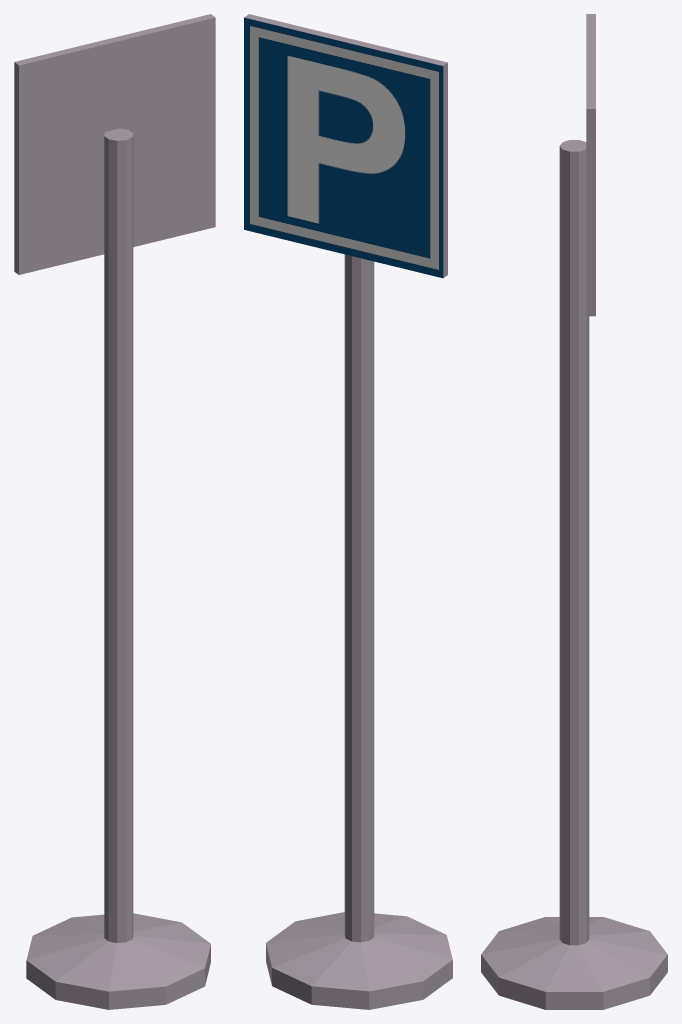
Rendered from parking_sign1.fbx.
3 renders of one model, left to right at view 1: azimuth 30°, elevation 25°; view 2: azimuth 150°, elevation 25°; view 3: azimuth 270°, elevation 25°, orthographic. The views are drawn at different scales.
Visible parts, largest first — view 1: parkingsign; view 2: parkingsign; view 3: parkingsign.
Boxes of the visible parts, x1=… form: parkingsign: x1=14, y1=14, x2=215, y2=1009; parkingsign: x1=244, y1=14, x2=452, y2=1009; parkingsign: x1=481, y1=14, x2=667, y2=1009.
Size of the model in its own units: 0.8686 by 0.722 by 3.9.
